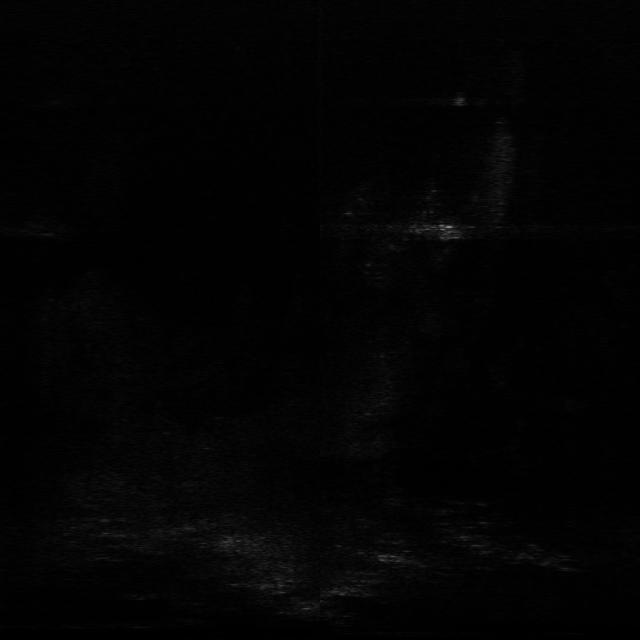rov: (432, 219, 459, 244)
